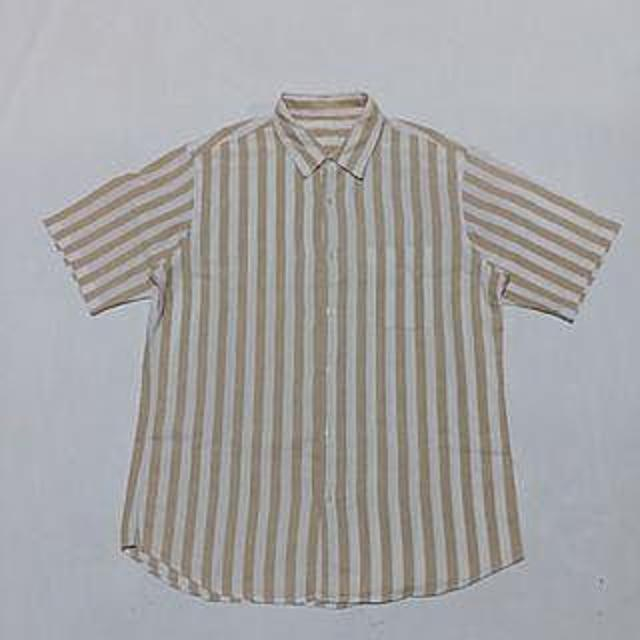SHIRT: (28, 82, 624, 620)
